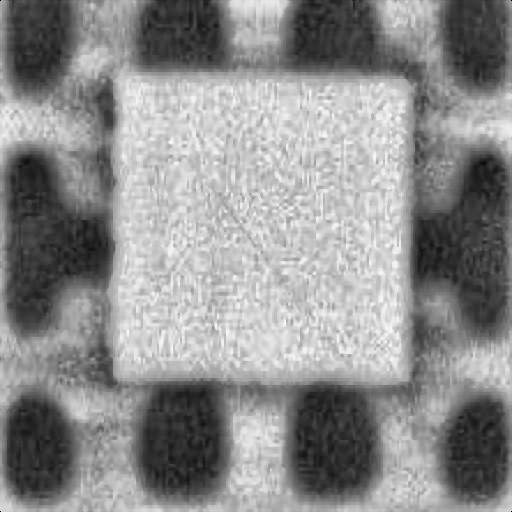DIE_CRACK: (286, 108, 512, 242)
